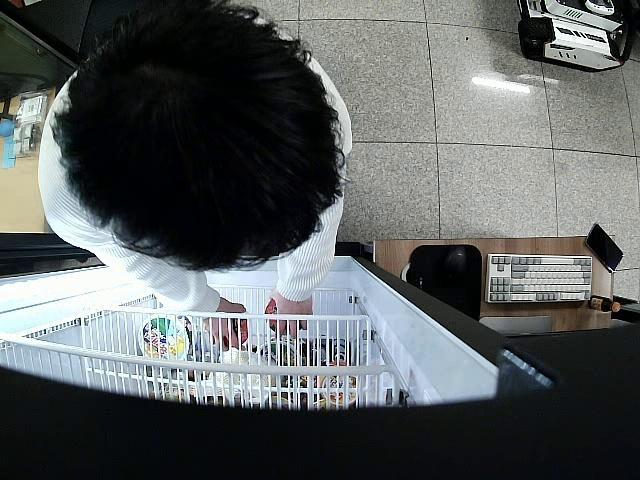02_shinRamen_S: (222, 315, 250, 350), (266, 300, 290, 336)
